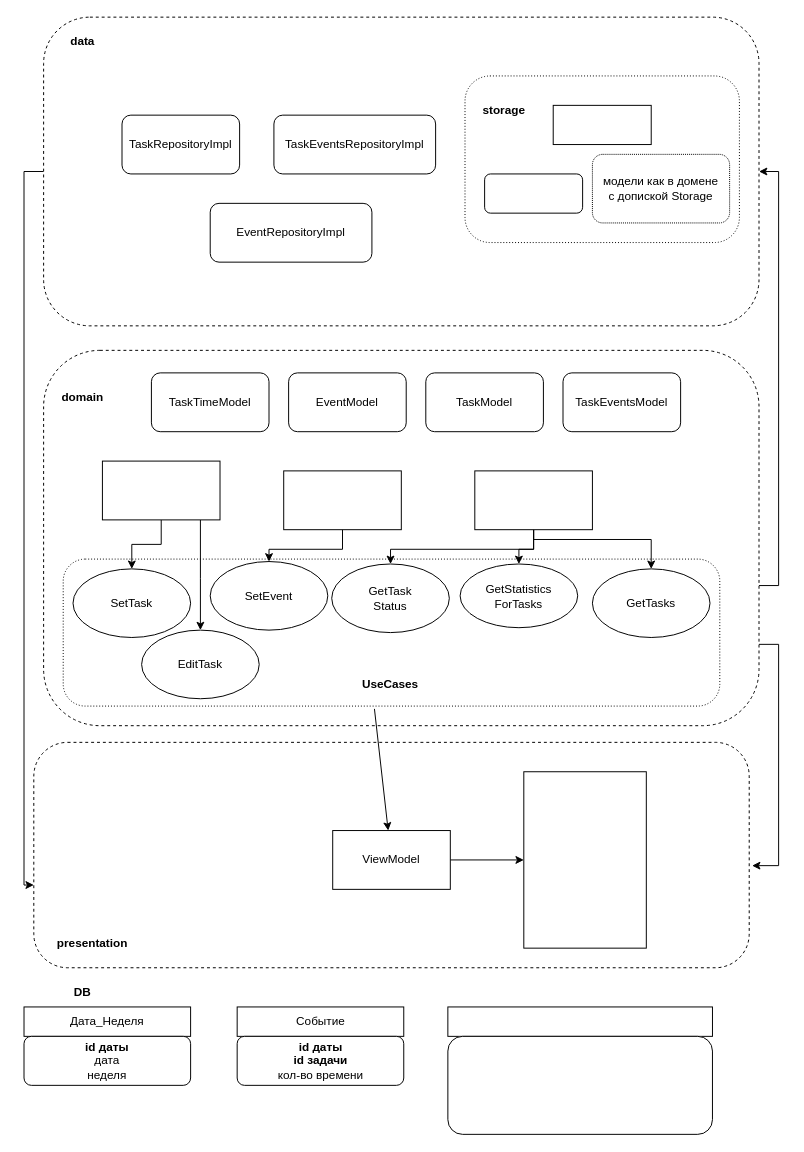
The diagram is 804 pixels wide and 1152 high, and some of its shapes have lost their labels. Here are the shapes that lost their labels. From the top down, the centre of each, then its label:
the point at 601,124: TaskEventStorage interface
the point at 533,193: DBTaskStorage
the point at 160,490: TaskRepository interface
the point at 342,500: EventRepository interface
the point at 533,500: TaskEventsRepository interface
the point at 584,859: Activity
the point at 579,1021: Задача
the point at 579,1084: id имя цель временной промежуток сброса(1, 7, 30) пресеты[] статус активности
